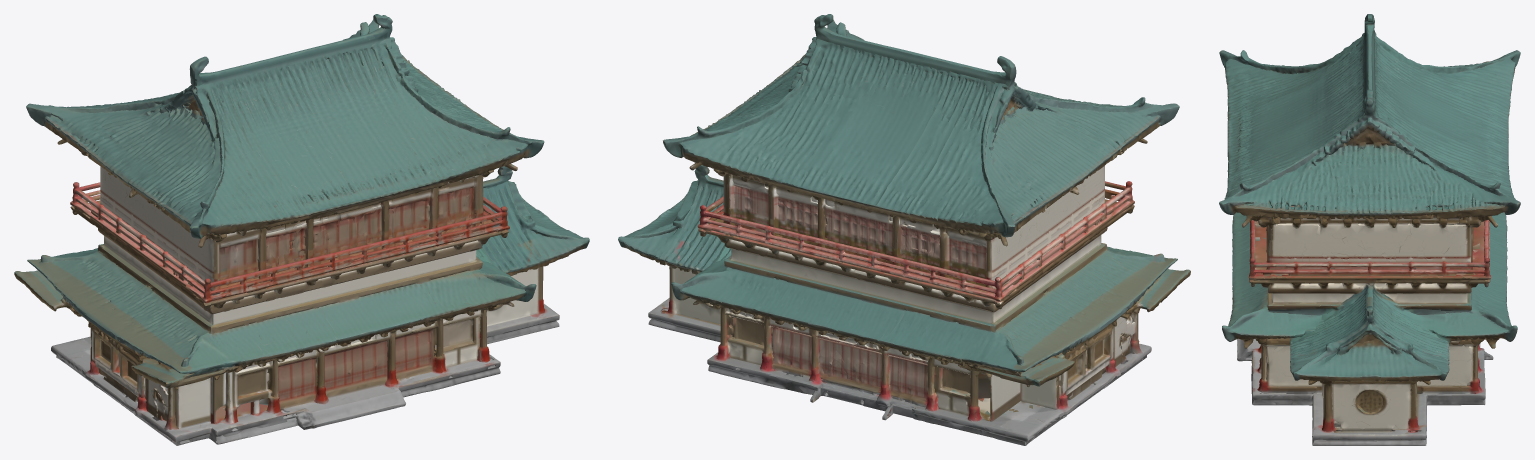
File: lux3d_g1_36414.glb
3 renders of one model, left to right at view 1: azimuth 30°, elevation 25°; view 2: azimuth 150°, elevation 25°; view 3: azimuth 270°, elevation 25°, orthographic. The views are drawn at different scales.
Parts seen in each view (by area): view 1: geometry_0; view 2: geometry_0; view 3: geometry_0.
Boxes of the visible parts, box(x1,y1,x2,y2) form: geometry_0: box(14, 14, 589, 445); geometry_0: box(618, 14, 1190, 445); geometry_0: box(1219, 14, 1520, 445).
Size of the model in its own units: 0.45 by 0.3077 by 0.2881.
Materials: 1 (1 with a texture image).
